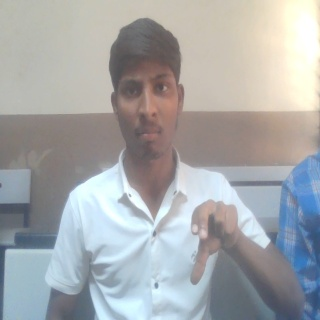Face: (107, 16, 186, 162)
No: (186, 197, 243, 288)
